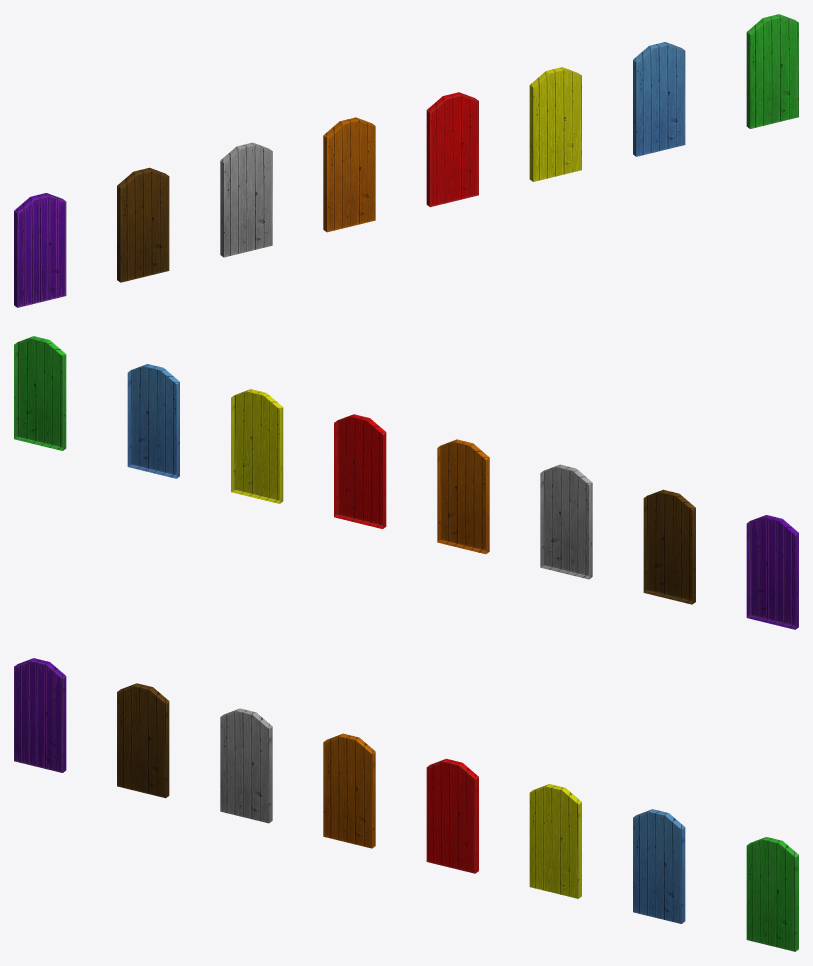
Rendered from puertasAtlas.fbx.
3 renders of one model, top to bottom at view 1: azimuth 30°, elevation 25°; view 2: azimuth 150°, elevation 25°; view 3: azimuth 330°, elevation 25°, orthographic.
Visible parts, largest first — view 1: polySurface267, polySurface269, polySurface273, polySurface271, polySurface270, polySurface268, polySurface274, polySurface272; view 2: polySurface267, polySurface269, polySurface273, polySurface271, polySurface270, polySurface268, polySurface274, polySurface272; view 3: polySurface271, polySurface274, polySurface268, polySurface270, polySurface272, polySurface273, polySurface267, polySurface269.
Part boxes in pixels (bbox=[...]): polySurface267: bbox=[14, 193, 66, 307]; polySurface269: bbox=[220, 142, 272, 257]; polySurface273: bbox=[633, 42, 685, 156]; polySurface271: bbox=[426, 92, 478, 207]; polySurface270: bbox=[323, 117, 375, 232]; polySurface268: bbox=[117, 167, 169, 282]; polySurface274: bbox=[746, 14, 798, 128]; polySurface272: bbox=[529, 67, 581, 181]; polySurface267: bbox=[746, 515, 798, 629]; polySurface269: bbox=[540, 464, 592, 579]; polySurface273: bbox=[127, 364, 179, 478]; polySurface271: bbox=[334, 414, 386, 529]; polySurface270: bbox=[437, 439, 489, 554]; polySurface268: bbox=[643, 489, 695, 604]; polySurface274: bbox=[14, 336, 66, 450]; polySurface272: bbox=[231, 389, 283, 503]; polySurface271: bbox=[426, 758, 478, 873]; polySurface274: bbox=[746, 837, 798, 951]; polySurface268: bbox=[117, 683, 169, 798]; polySurface270: bbox=[323, 733, 375, 848]; polySurface272: bbox=[529, 784, 581, 898]; polySurface273: bbox=[633, 809, 685, 923]; polySurface267: bbox=[14, 658, 66, 772]; polySurface269: bbox=[220, 708, 272, 823].
Bounding box in the file's own units: 11407 × 1458 × 89.99.
